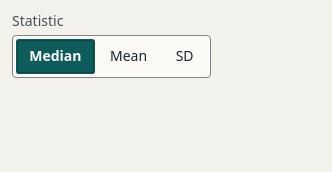
Test: SegmentedControl › selects by click
The width and height of the screenshot is (332, 172).
What coordinates should you click on to do the following:
click the radio button labelled "SD"
I would click on:
 (185, 56)
Its box is [162,39,207,74].
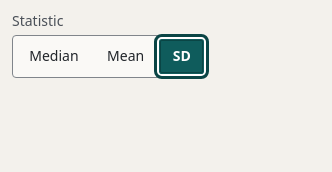
Expected: the radio button labelled "SD" is checked, [159,39,204,74]
